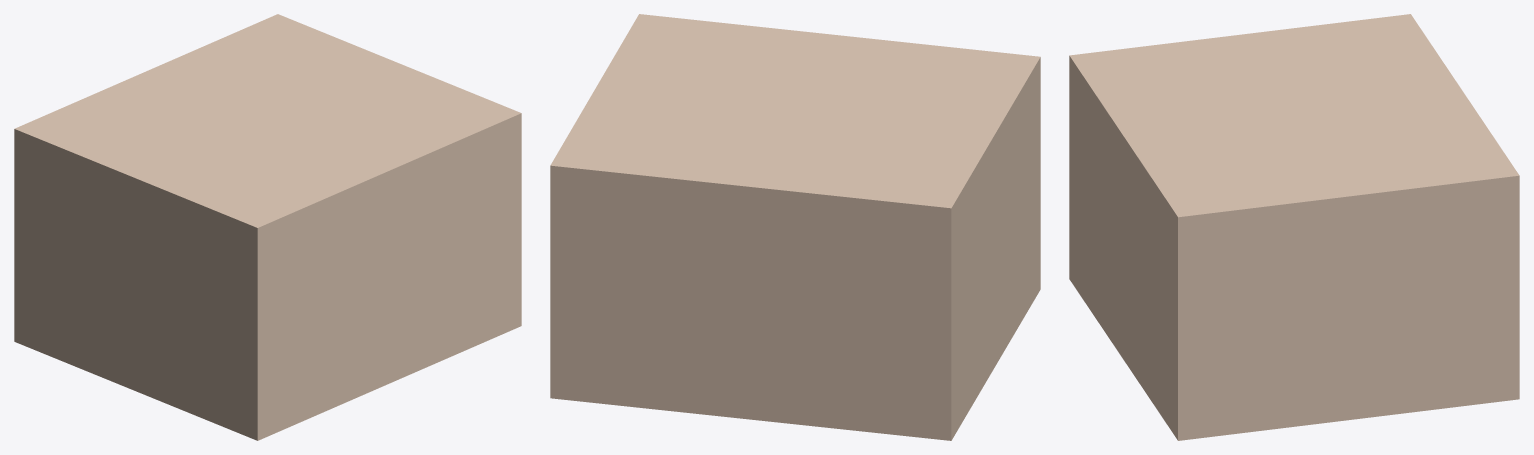
The picture shows the model from 3 angles, left to right: view 1: azimuth 30°, elevation 25°; view 2: azimuth 150°, elevation 25°; view 3: azimuth 270°, elevation 25°; orthographic projection. The views are drawn at different scales.
Visible parts, largest first — view 1: SM_899d6aec11583ddb8343; view 2: SM_899d6aec11583ddb8343; view 3: SM_899d6aec11583ddb8343.
Part boxes in pixels (x1,y1,x2,y2): SM_899d6aec11583ddb8343: (14, 14, 521, 440); SM_899d6aec11583ddb8343: (550, 14, 1040, 440); SM_899d6aec11583ddb8343: (1069, 14, 1519, 440).
Bounding box in the file's own units: 11.69 × 10.95 × 6.
